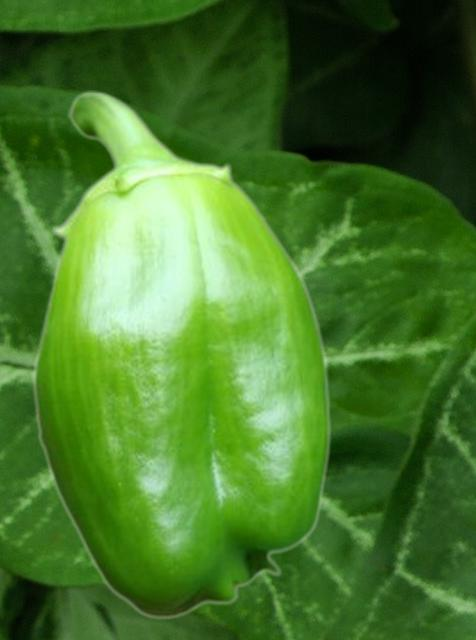bell_pepper: (31, 90, 331, 619)
